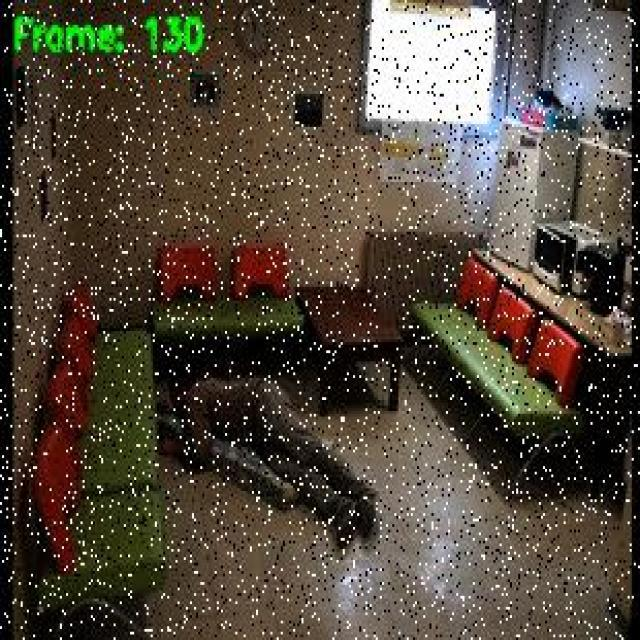fall: (157, 364, 380, 549)
